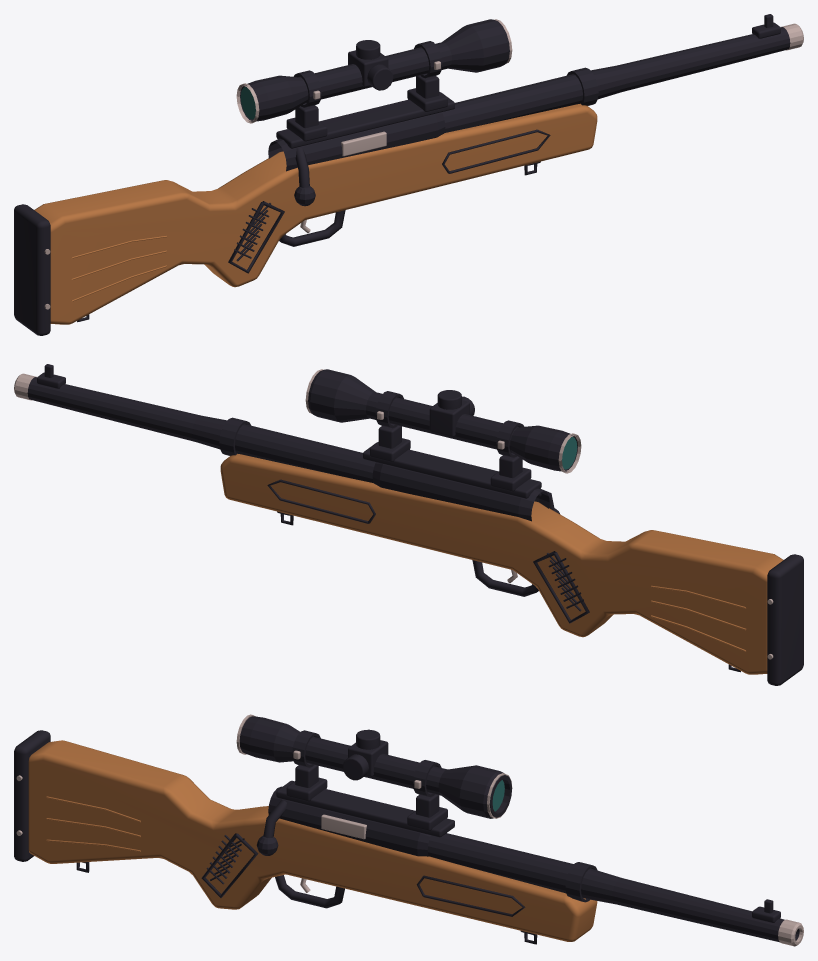
The picture shows the model from 3 angles, top to bottom: view 1: azimuth 30°, elevation 25°; view 2: azimuth 150°, elevation 25°; view 3: azimuth 330°, elevation 25°; orthographic projection.
Parts seen in each view (by area): view 1: body_woodWarm, body_uiDark, body_sidewalk; view 2: body_woodWarm, body_uiDark, body_sidewalk; view 3: body_woodWarm, body_uiDark, body_sidewalk.
Part boxes in pixels (x1,y1,x2,y2): body_woodWarm: (34, 103, 597, 324); body_uiDark: (14, 14, 790, 335); body_sidewalk: (44, 19, 803, 309); body_woodWarm: (220, 453, 783, 674); body_uiDark: (27, 364, 803, 685); body_sidewalk: (14, 369, 773, 659); body_woodWarm: (28, 740, 597, 941); body_uiDark: (14, 716, 799, 944); body_sidewalk: (16, 714, 803, 946).
Bounding box in the file's own units: 1.31 × 0.3351 × 0.114.
